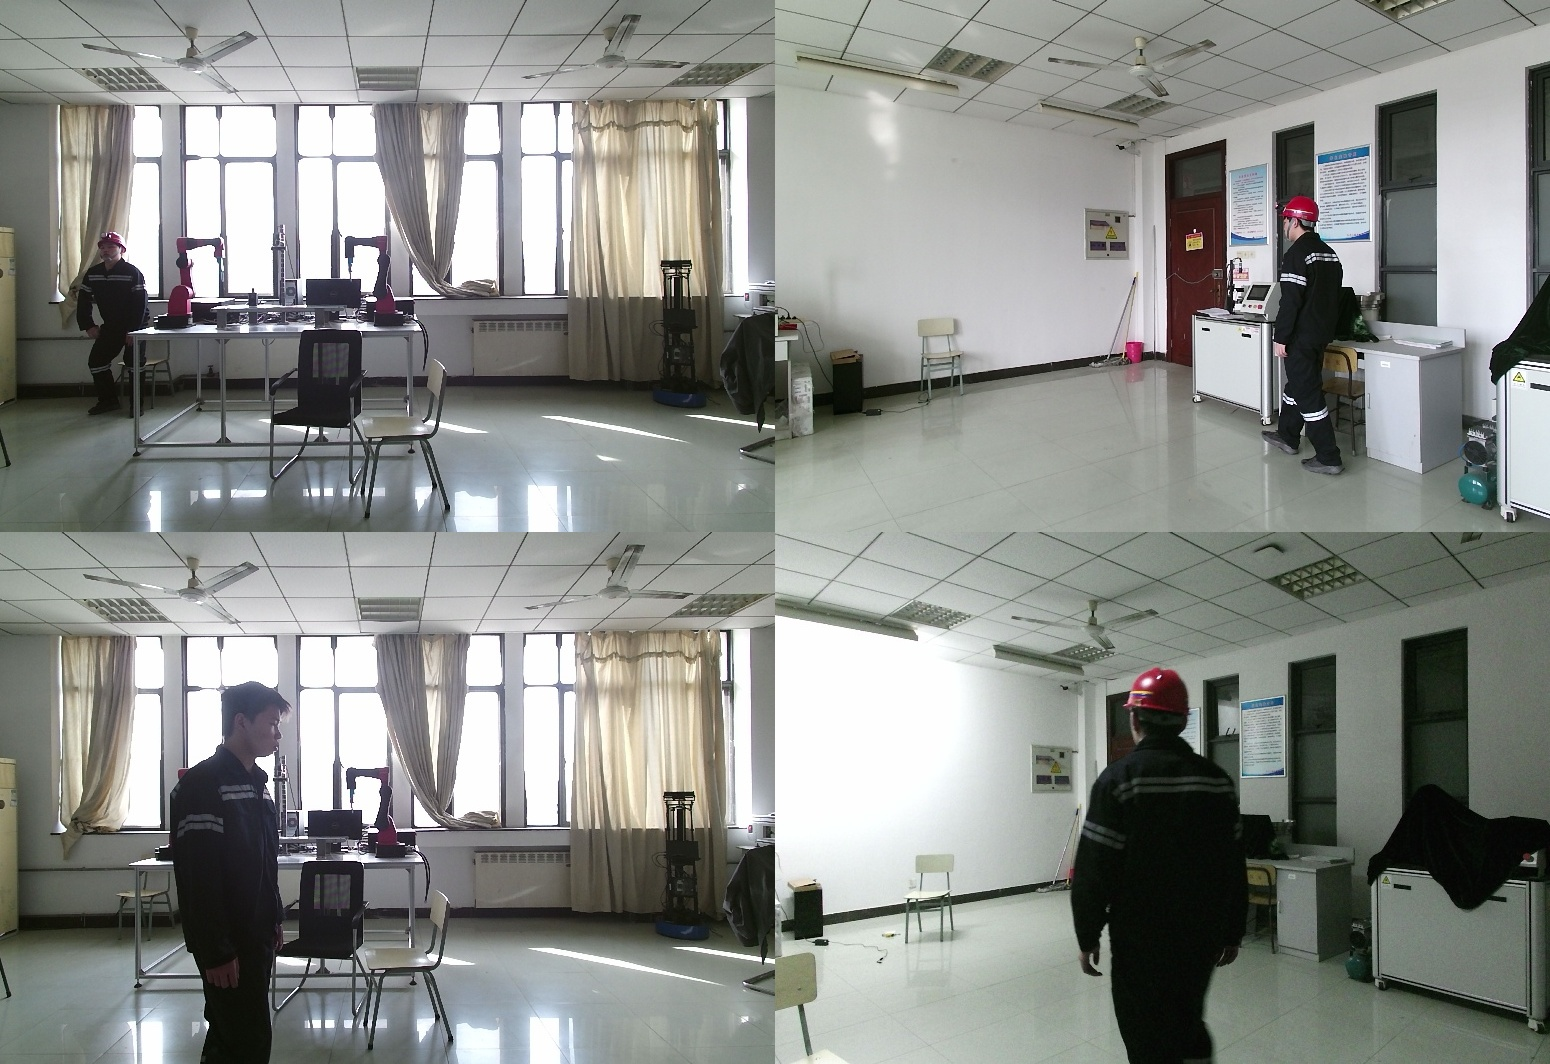person: (1071, 669, 1265, 1064), (170, 683, 290, 1064), (1270, 194, 1351, 471), (70, 229, 149, 417)
